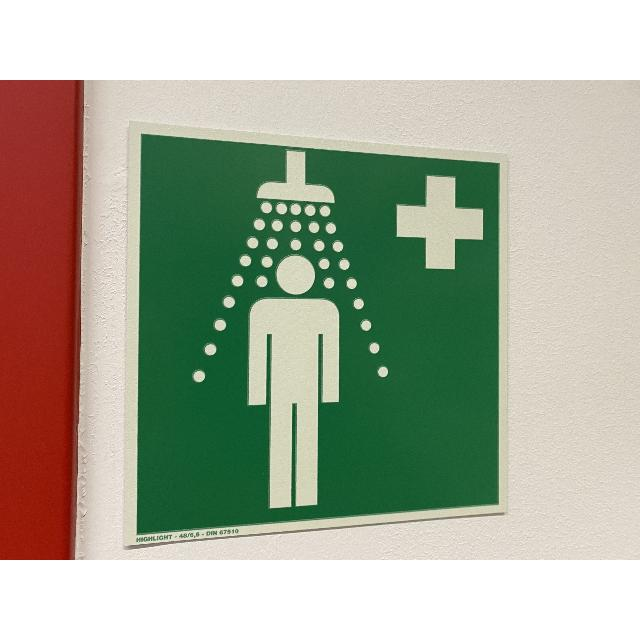shower: (130, 120, 506, 546)
